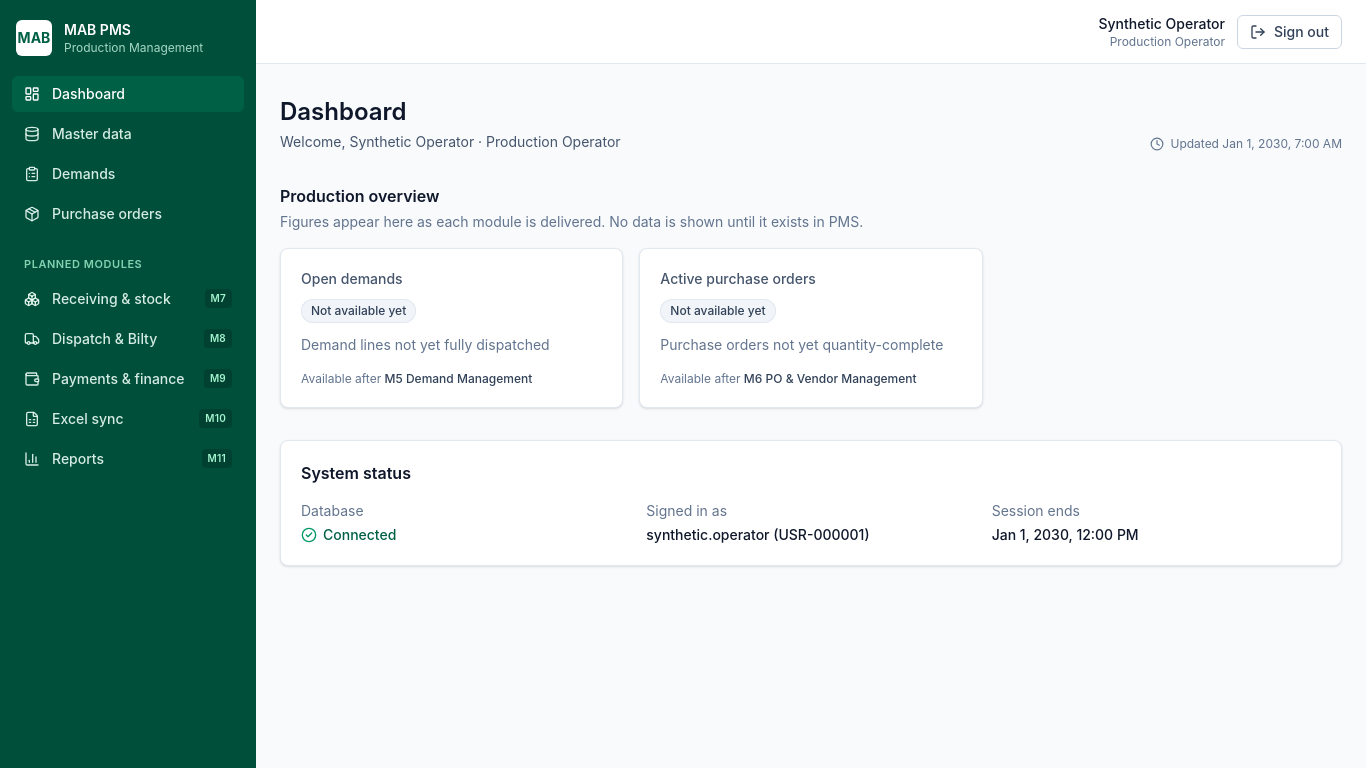
Test: Master data — navigation and lists › opens from the sidebar and defaults to provinces
Click the link "Master data" at point(78, 134), box x1=24 y1=125 x2=132 y2=142
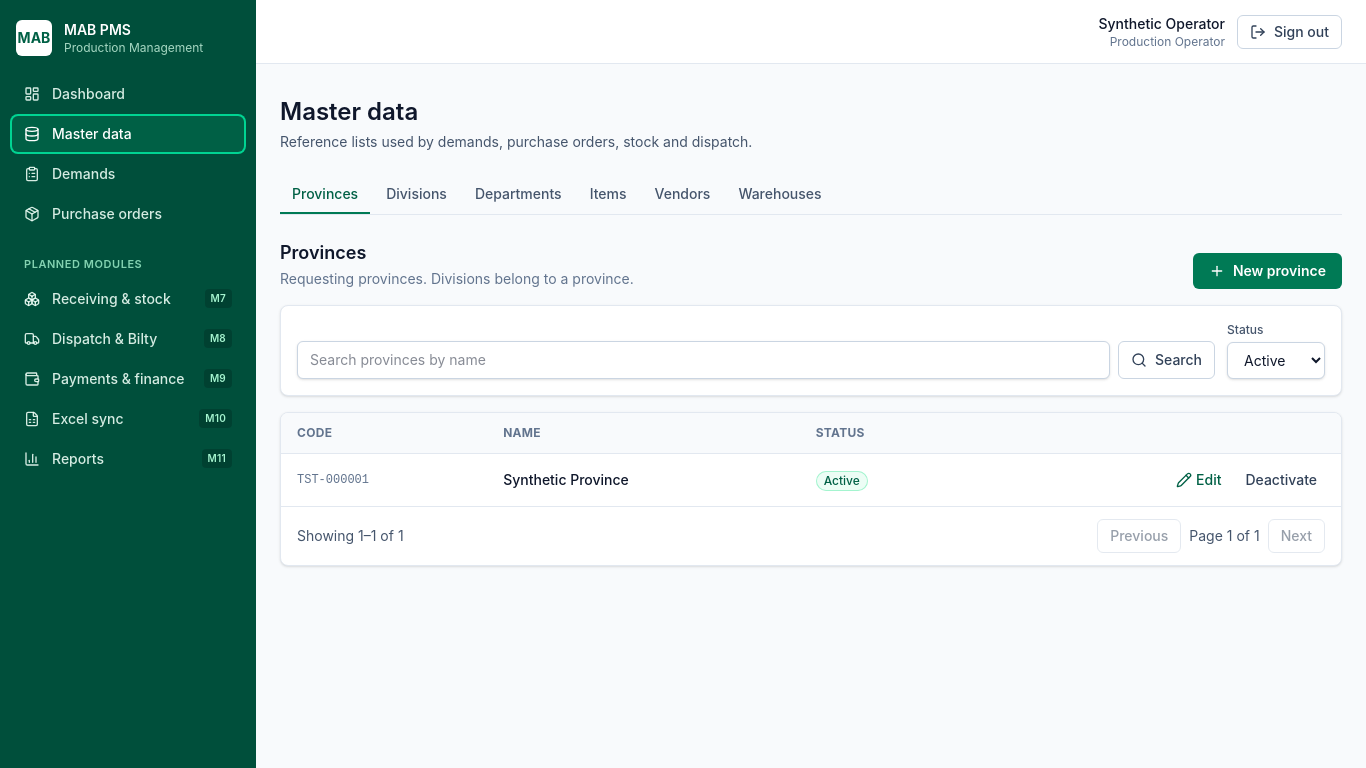
Result: the heading "Provinces" is shown at x1=280 y1=242 x2=366 y2=263
Result: the cell "Synthetic Province" is shown at x1=487 y1=454 x2=800 y2=506
